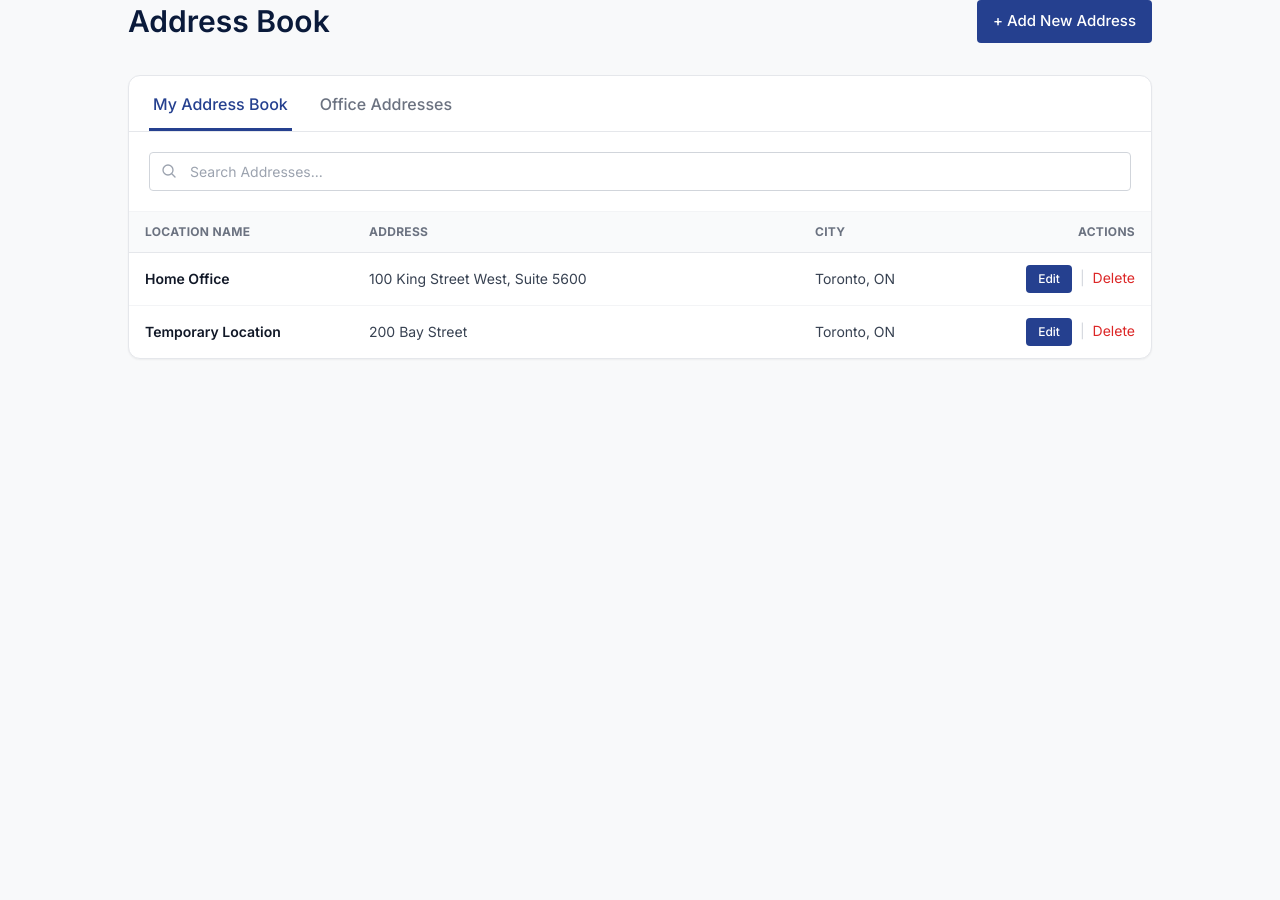
AddressBookPage › AB-06 saved row is personal, not an office
The image size is (1280, 900).
Click the button "+ Add New Address": (1064, 21) [977,0,1152,42]
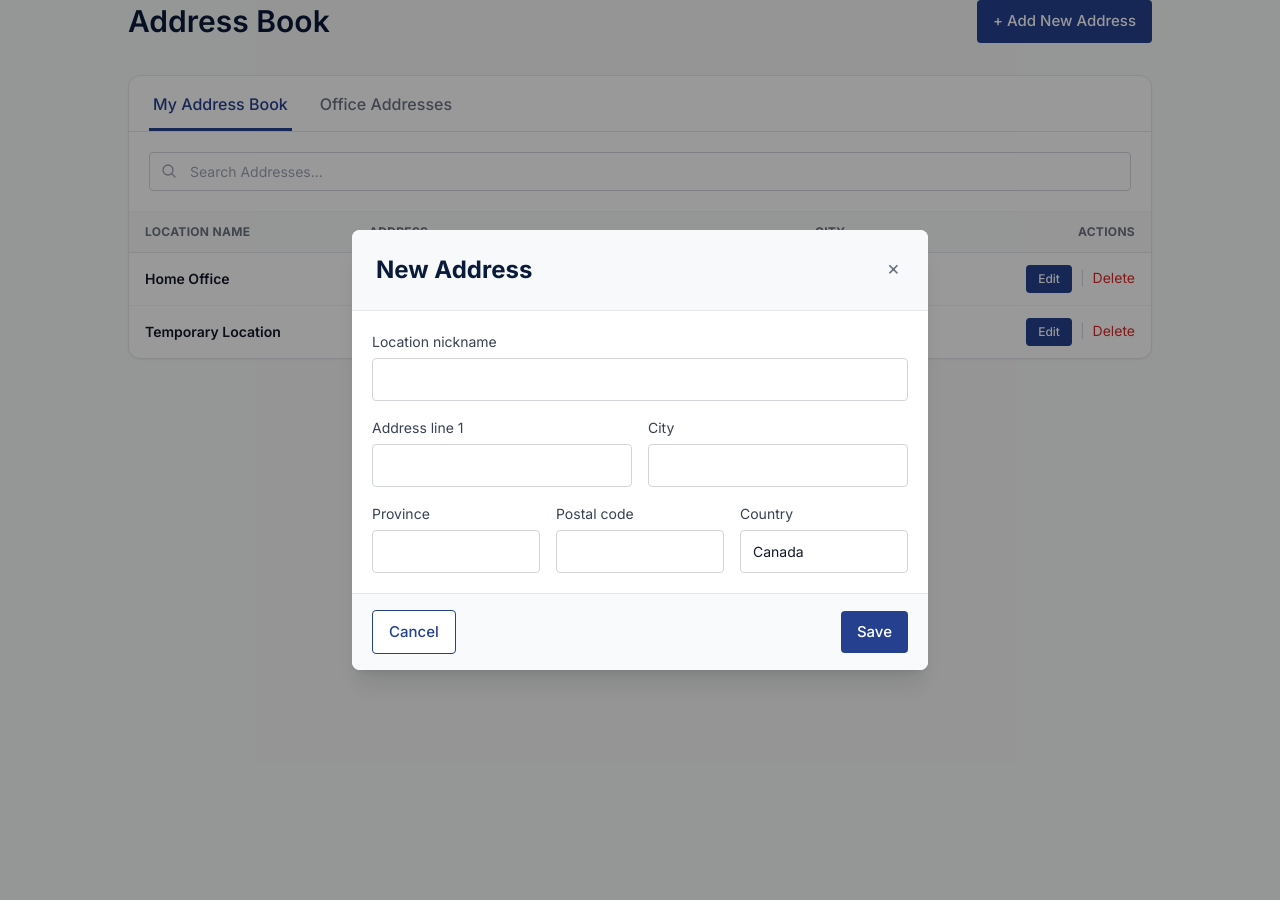
In the field with id "addr-nickname": (640, 379) [372,358,908,401], type "Cabin"
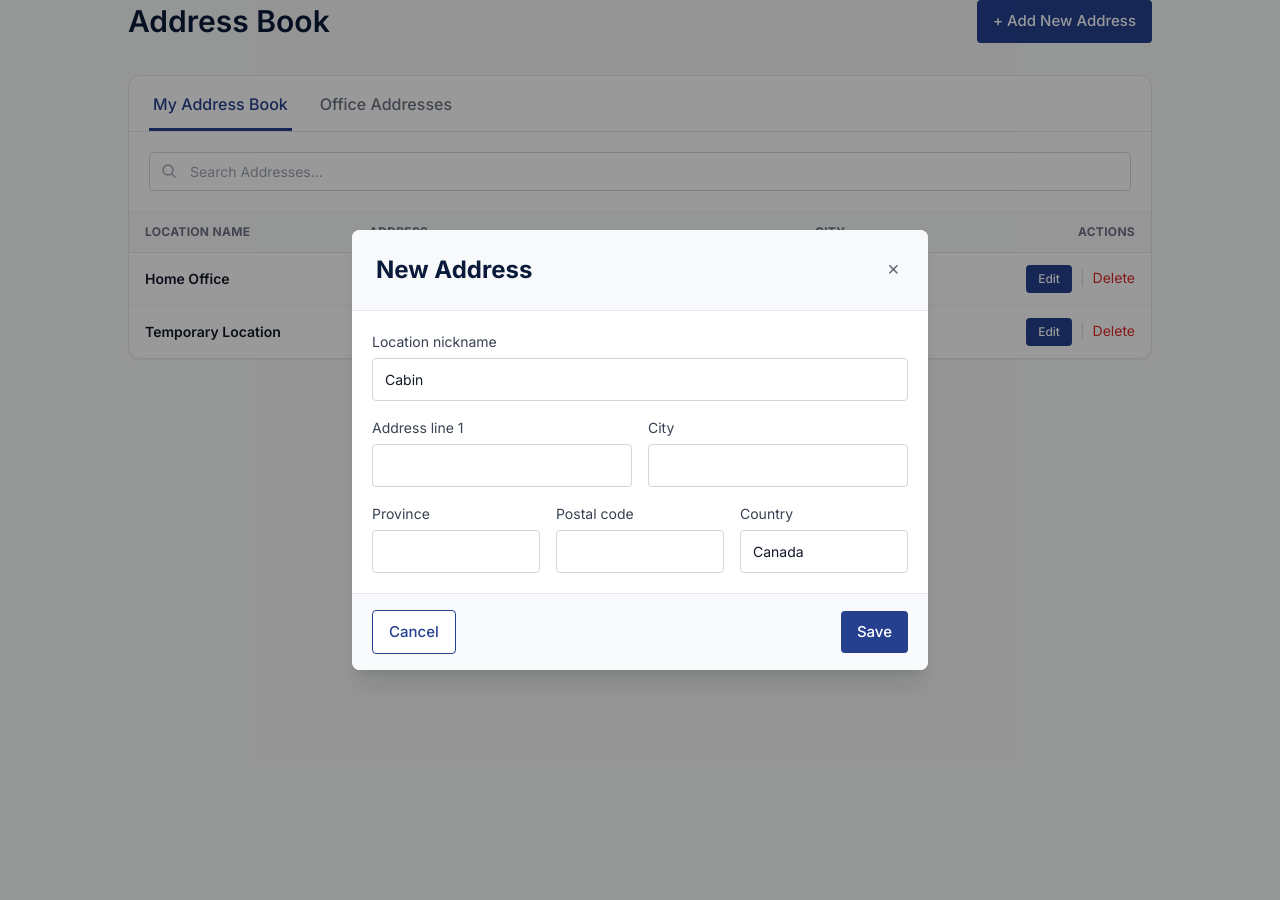
In the field labelled "Address line 1": (502, 465) [372,444,632,487], type "1 Pine Road"
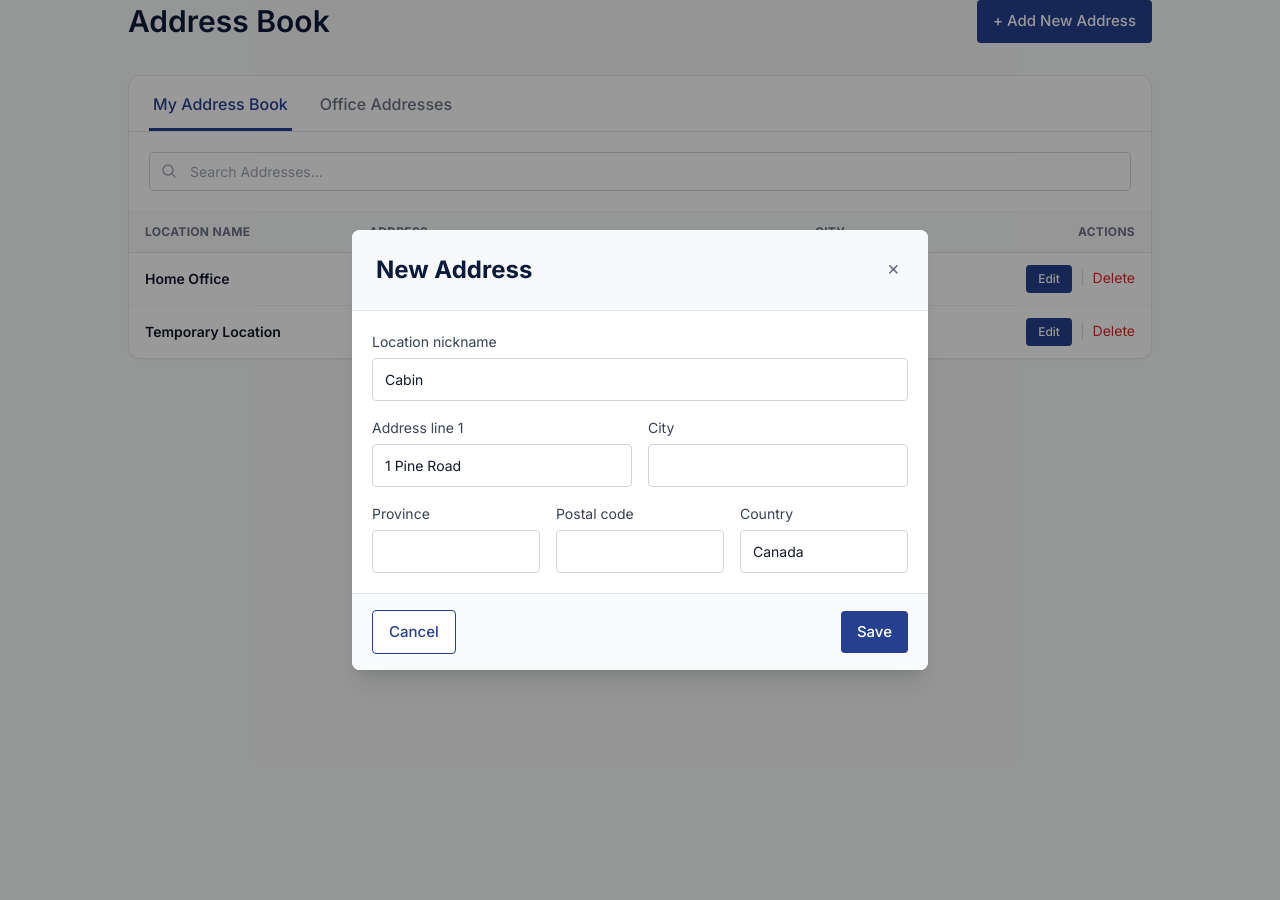
In the field labelled "City": (778, 465) [648,444,908,487], type "Banff"
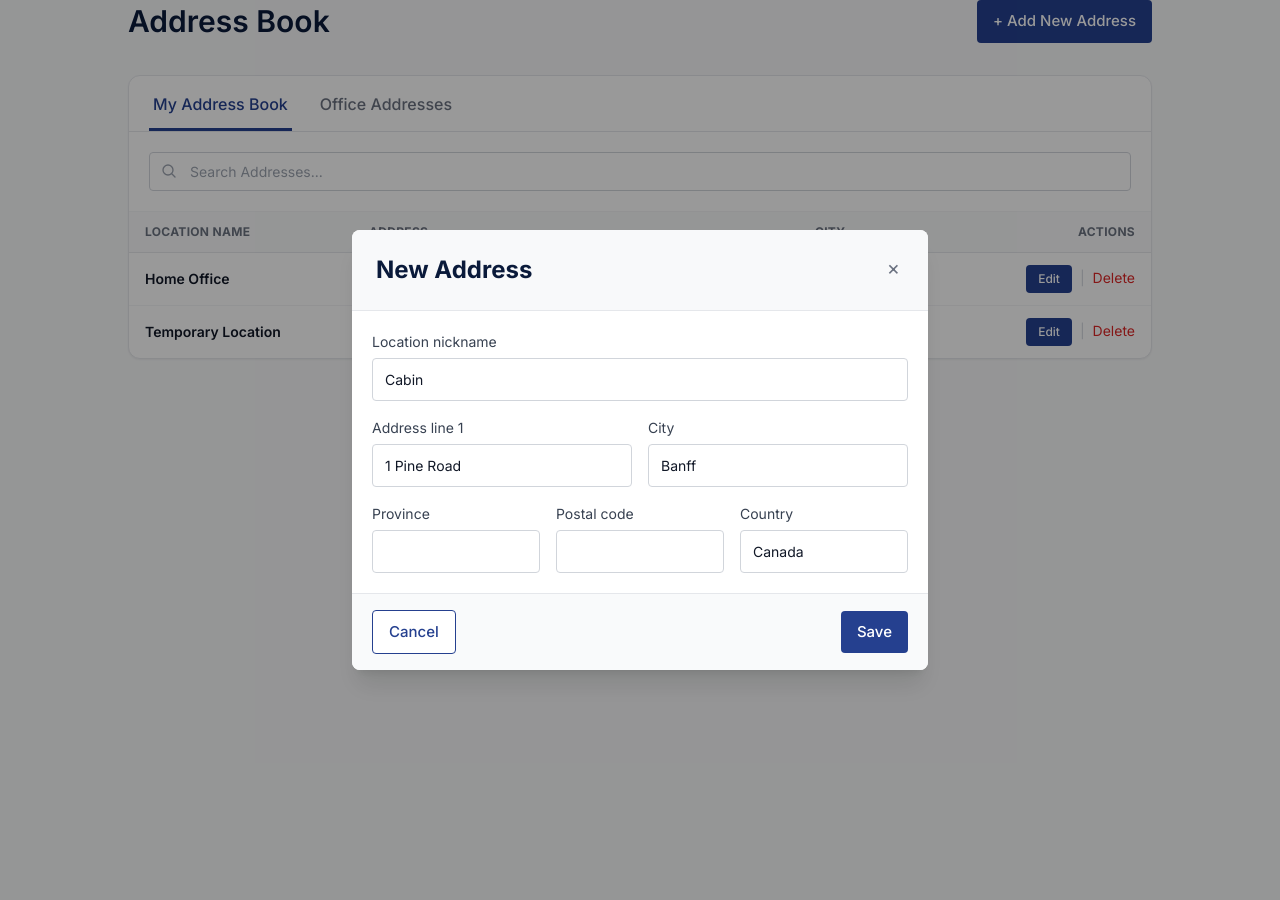
Submit the form, box [352,311,928,670]
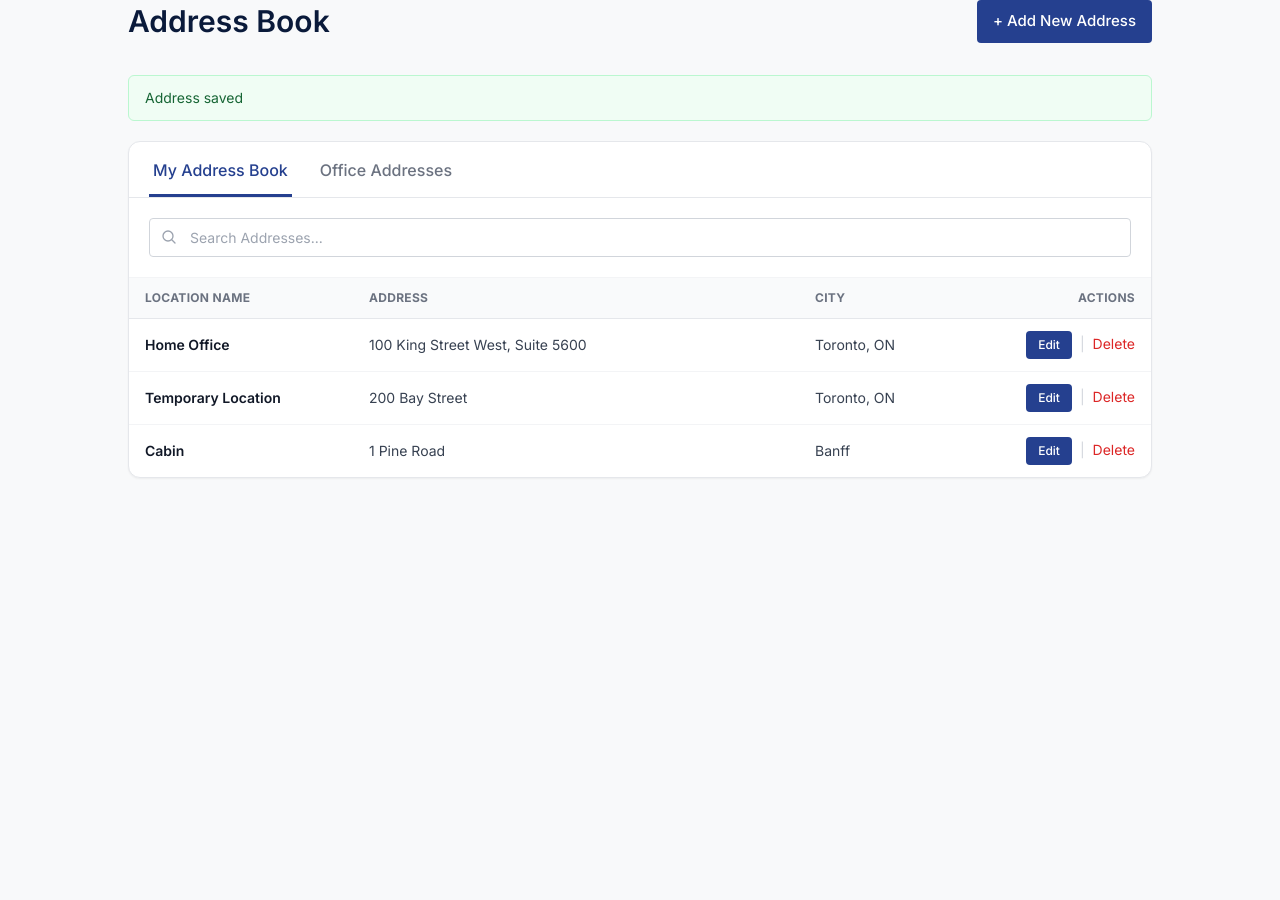
Click the button "Office Addresses": (386, 177) [316,158,456,196]
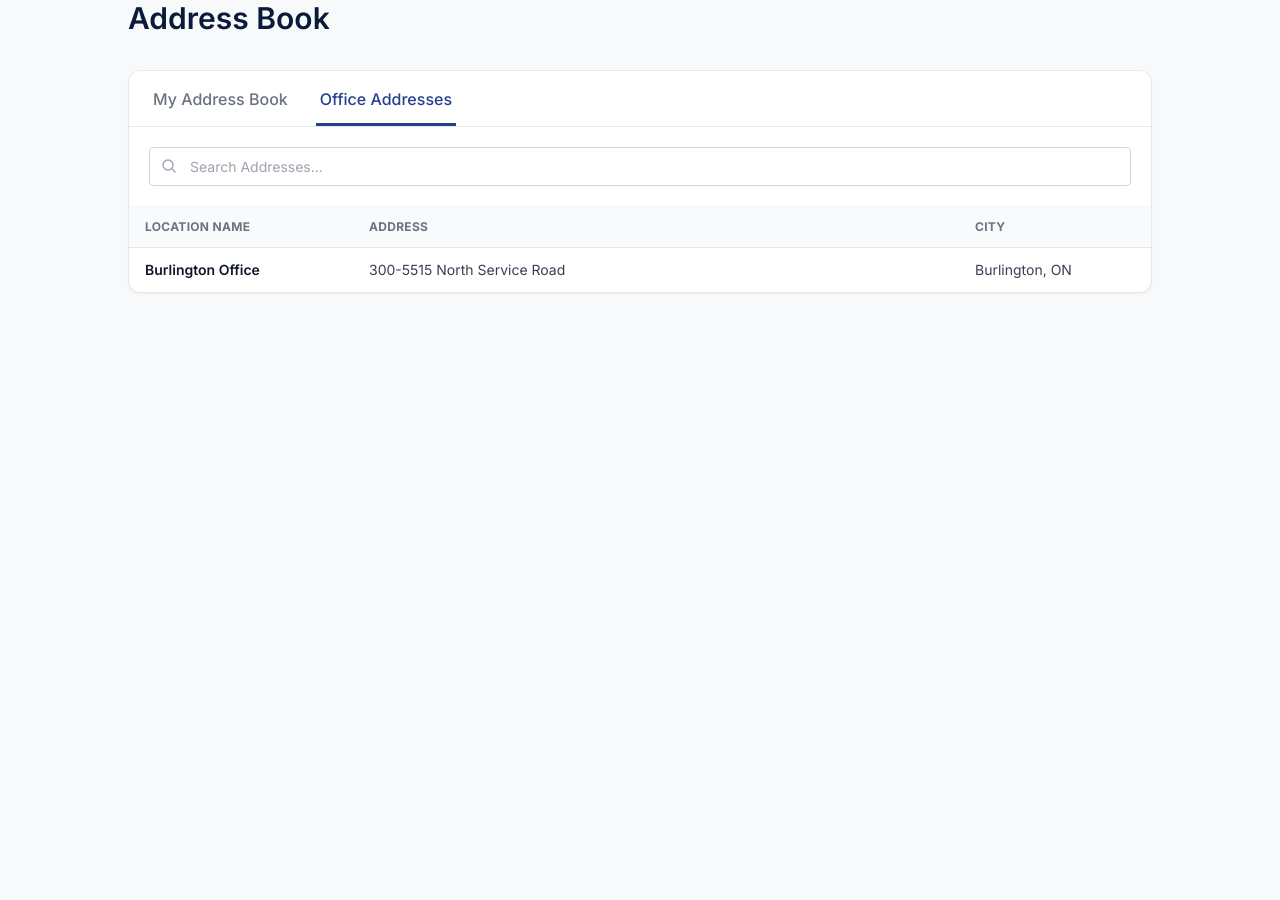
Check: the text "Cabin" is gone
